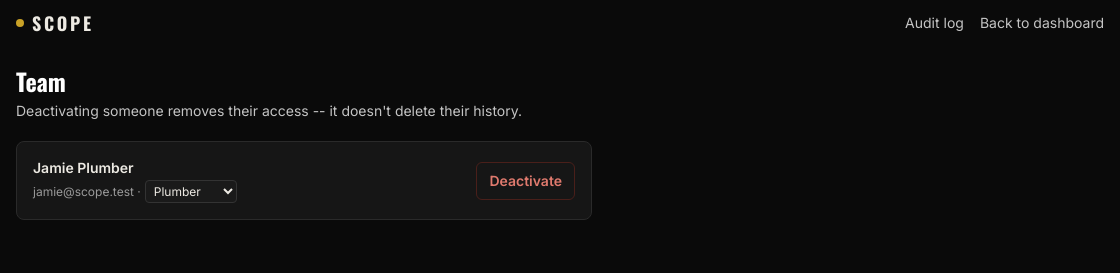
Test: EmployeeManagement role editing › shows a safe generic error (not the raw Supabase message) if the role update fails
The image size is (1120, 273).
Select "Dispatcher" in the dropdown named "change role for jamie plumber" at (191,192), box [145,180,237,203]
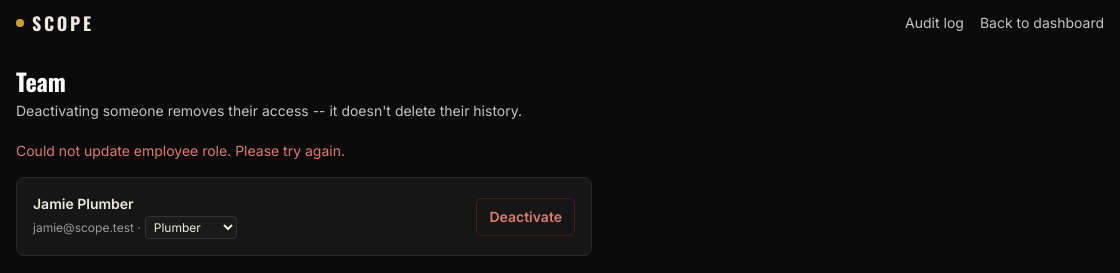
Expected: the text "Could not update employee role. Please try again." is shown, [16,142,345,159]
